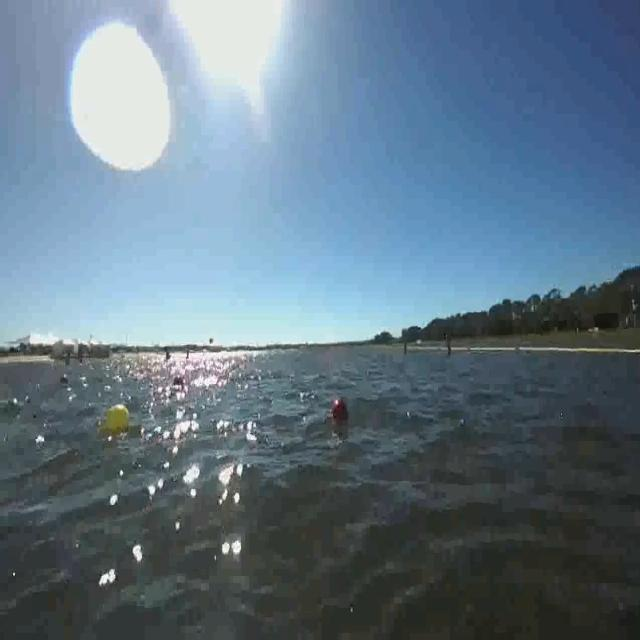red-buoy: (334, 401, 348, 418)
yellow-buoy: (98, 403, 134, 439)
